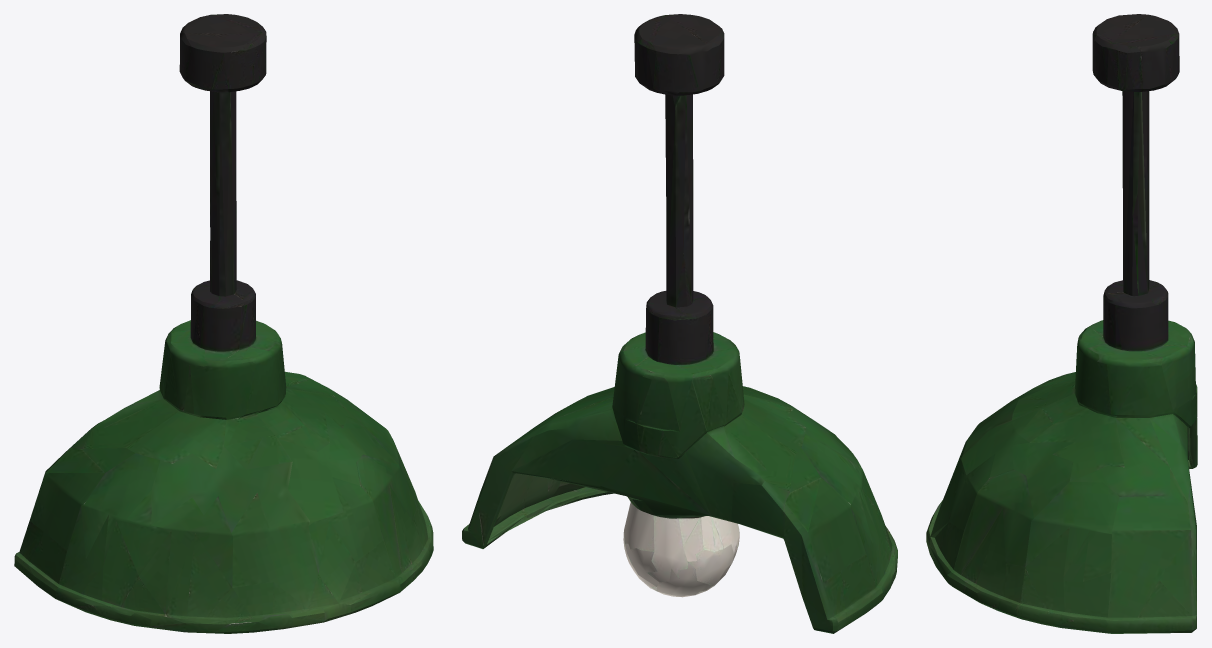
File: lamp.glb
3 views of the same model, side by side, from view 1: azimuth 30°, elevation 25°; view 2: azimuth 150°, elevation 25°; view 3: azimuth 270°, elevation 25° (orthographic). The views are drawn at different scales.
Size of the model in its own units: 1.35 by 1.9 by 0.8654.
1 material, 1 textured.
